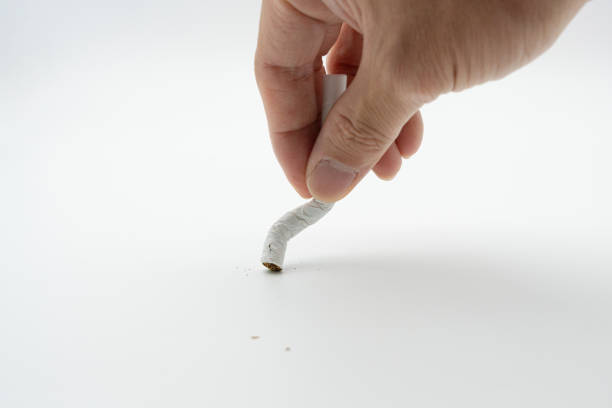cigarette: (260, 73, 348, 273)
